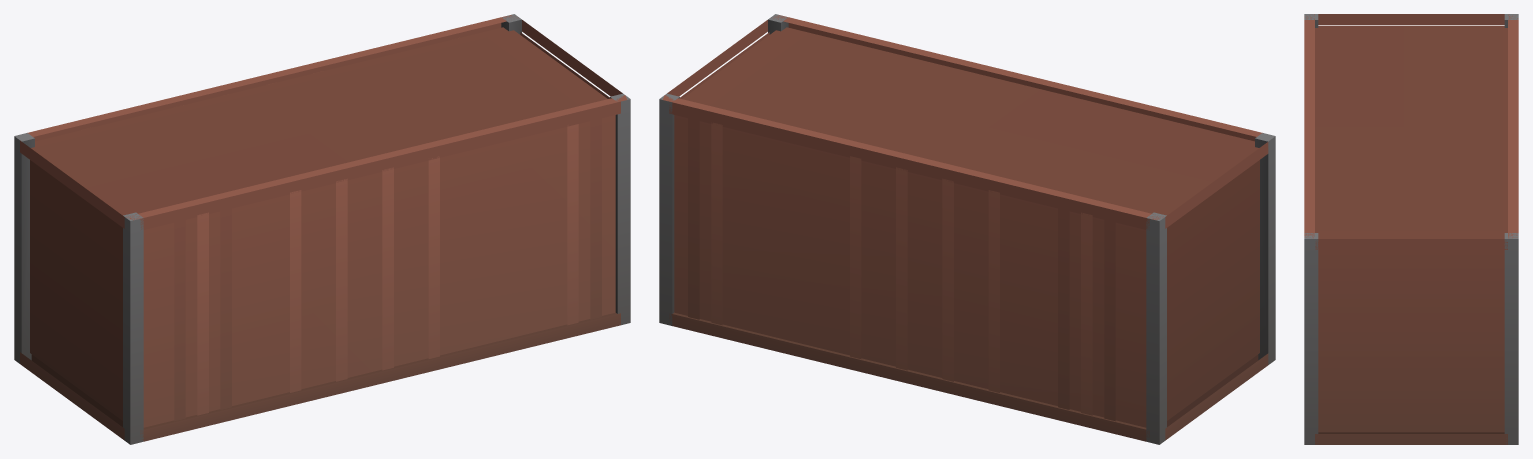
Rendered from box_red.lod.glb.
3 renders of one model, left to right at view 1: azimuth 30°, elevation 25°; view 2: azimuth 150°, elevation 25°; view 3: azimuth 270°, elevation 25°, orthographic. The views are drawn at different scales.
Parts seen in each view (by area): view 1: box_red; view 2: box_red; view 3: box_red.
Part boxes in pixels (x1,y1,x2,y2): box_red: (14,14,630,444); box_red: (659,14,1275,444); box_red: (1304,14,1518,444).
Size of the model in its own units: 6.06 by 2.59 by 2.44.
